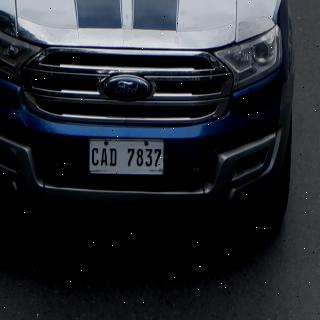license: (90, 140, 165, 176)
